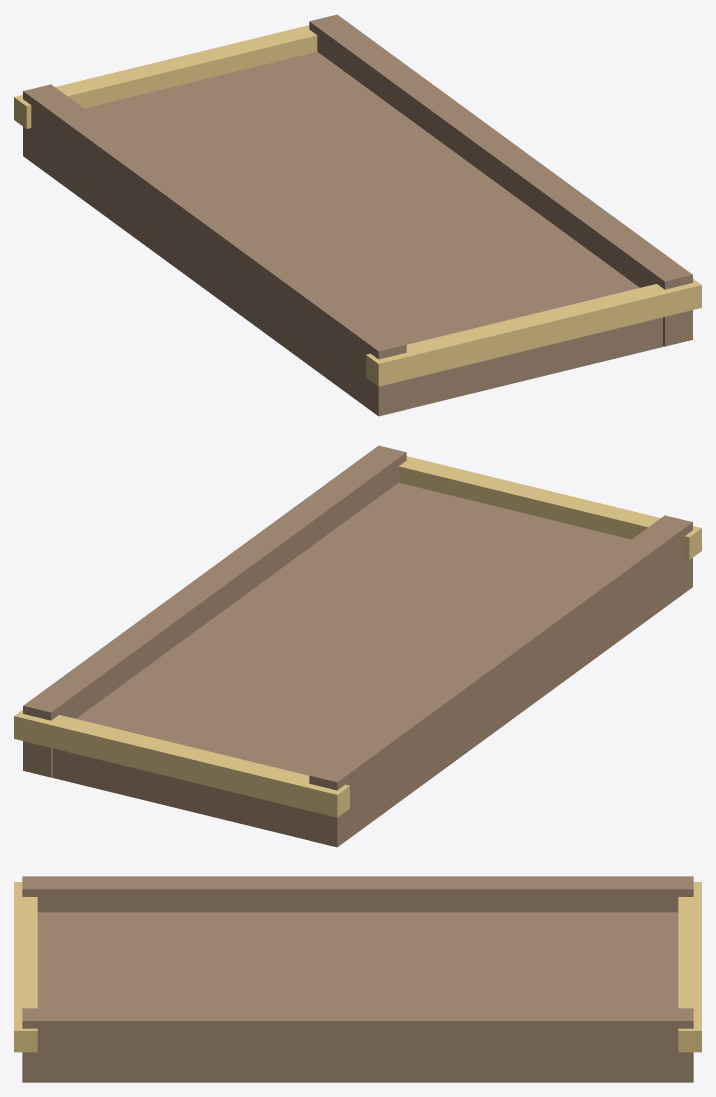
File: car_tray_core.glb
3 views of the same model, one above another, from view 1: azimuth 30°, elevation 25°; view 2: azimuth 150°, elevation 25°; view 3: azimuth 270°, elevation 25° (orthographic). The views are drawn at different scales.
Parts seen in each view (by area): view 1: Car_Chassis; view 2: Car_Chassis; view 3: Car_Chassis.
Boxes of the visible parts, x1,y1,x2,y2 form: Car_Chassis: (14,14,701,416); Car_Chassis: (14,445,701,847); Car_Chassis: (14,876,701,1082).
Size of the model in its own units: 0.2184 by 0.0431 by 0.4263.
